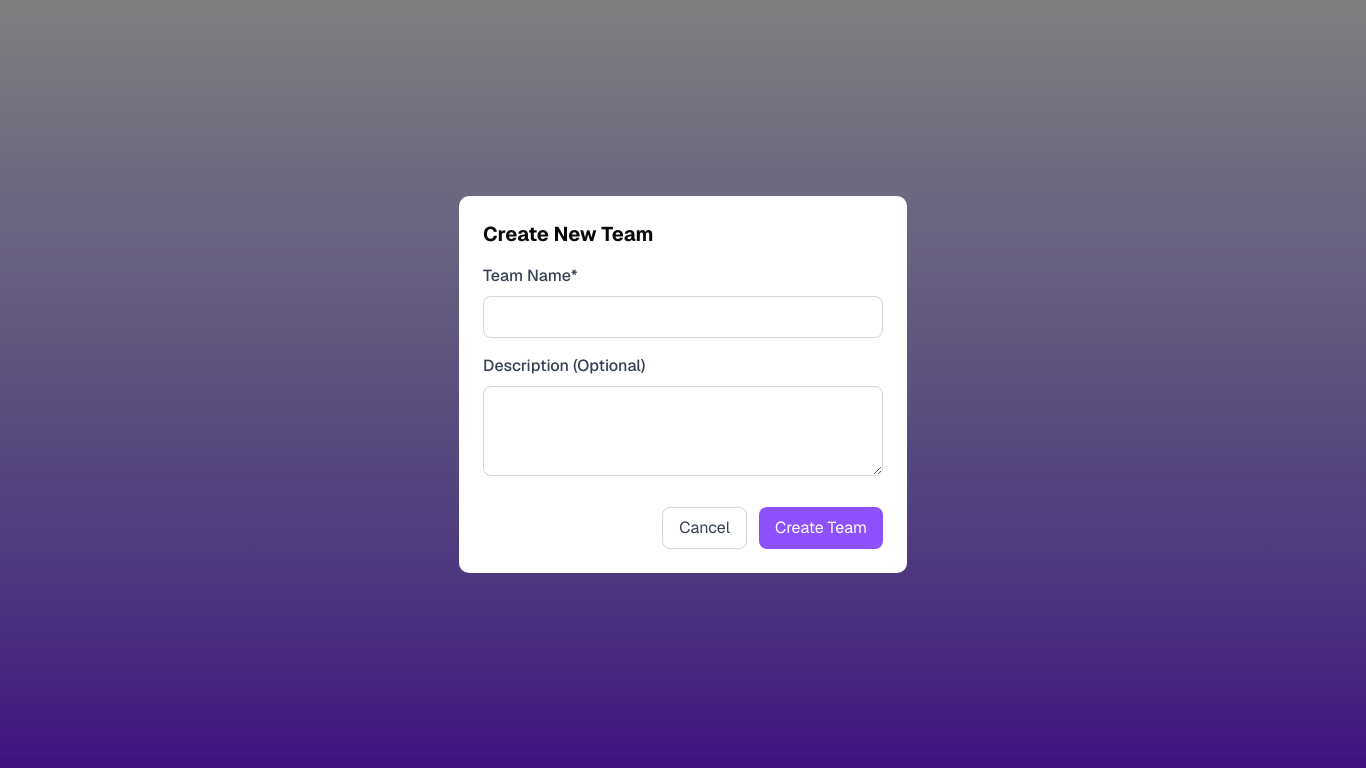
Test: CreateTeamModal › handles error from team creation
Note: Fill the form
Type "Test Team" into the field labelled "Team Name*" at [683, 316], box [483,296,883,338]
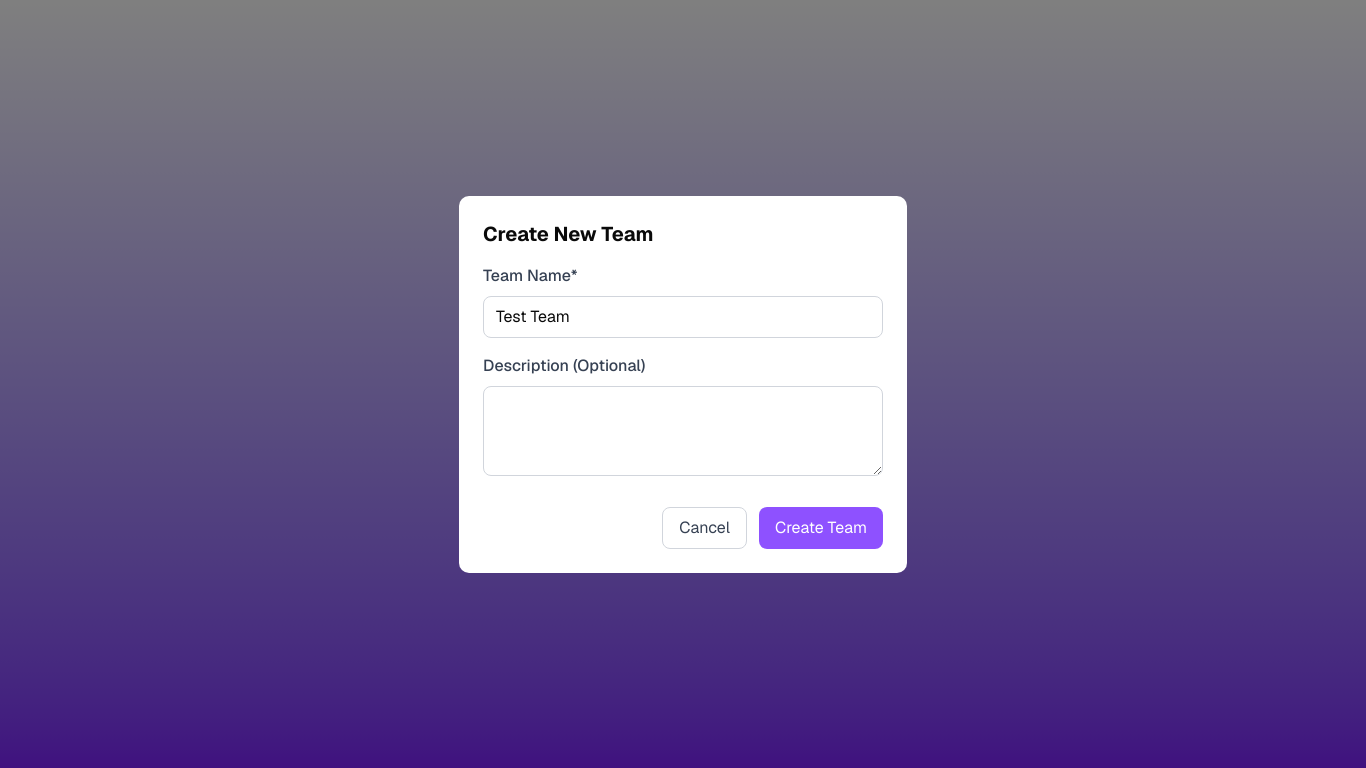
Note: Submit the form
Click the button "Create Team" at [821, 528], box [759,506,883,548]
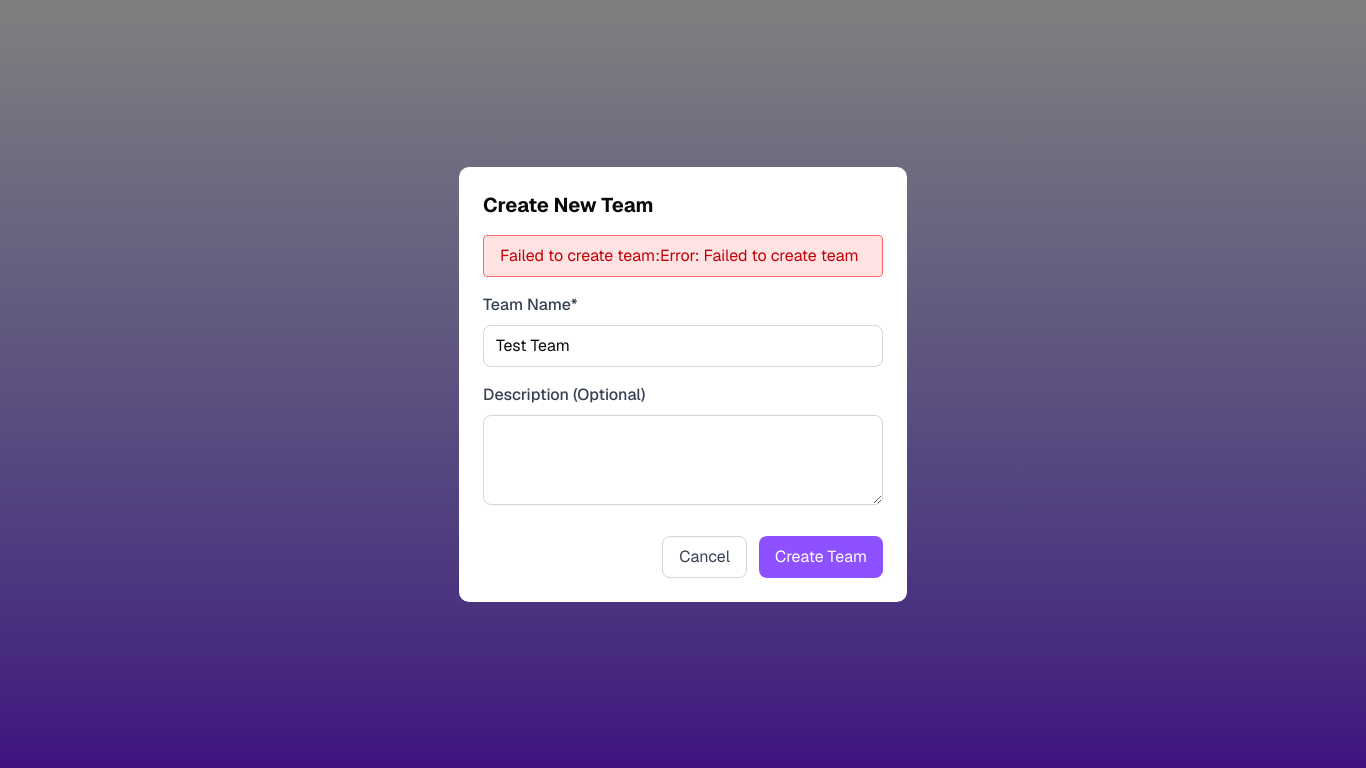
Expected: the button "Create Team" is shown, [759,536,883,578]
Expected: the text "Failed to create team:Error: Failed to create team" is shown, [483,234,883,276]
